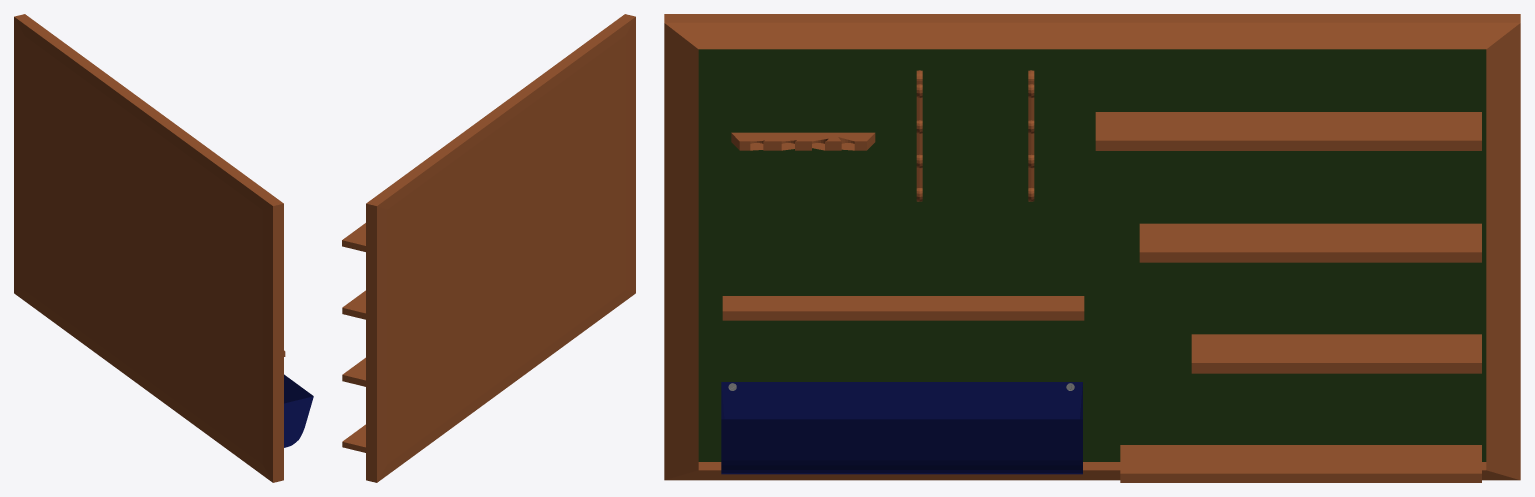
The model's file is toolwall.fbx.
The picture shows the model from 3 angles, left to right: view 1: azimuth 30°, elevation 25°; view 2: azimuth 150°, elevation 25°; view 3: azimuth 270°, elevation 25°; orthographic projection. The views are drawn at different scales.
Parts seen in each view (by area): view 1: Wall, Screws n stuff Box; view 2: Wall, Basic Shelfves; view 3: Wall, Basic Shelfves, Screws n stuff Box, Shelf_Holes, Shelf_Half_Holes, Display Shelf.
Part boxes in pixels (bbox=[...]): Wall: bbox=[14, 14, 283, 482]; Screws n stuff Box: bbox=[284, 374, 313, 447]; Wall: bbox=[366, 14, 635, 482]; Basic Shelfves: bbox=[342, 223, 365, 452]; Wall: bbox=[664, 14, 1520, 480]; Basic Shelfves: bbox=[1095, 112, 1481, 482]; Screws n stuff Box: bbox=[721, 382, 1082, 474]; Shelf_Holes: bbox=[722, 296, 1084, 320]; Shelf_Half_Holes: bbox=[731, 132, 875, 150]; Display Shelf: bbox=[916, 70, 1034, 201].
Bounding box in the file's own units: 61.6 × 279 × 474.
